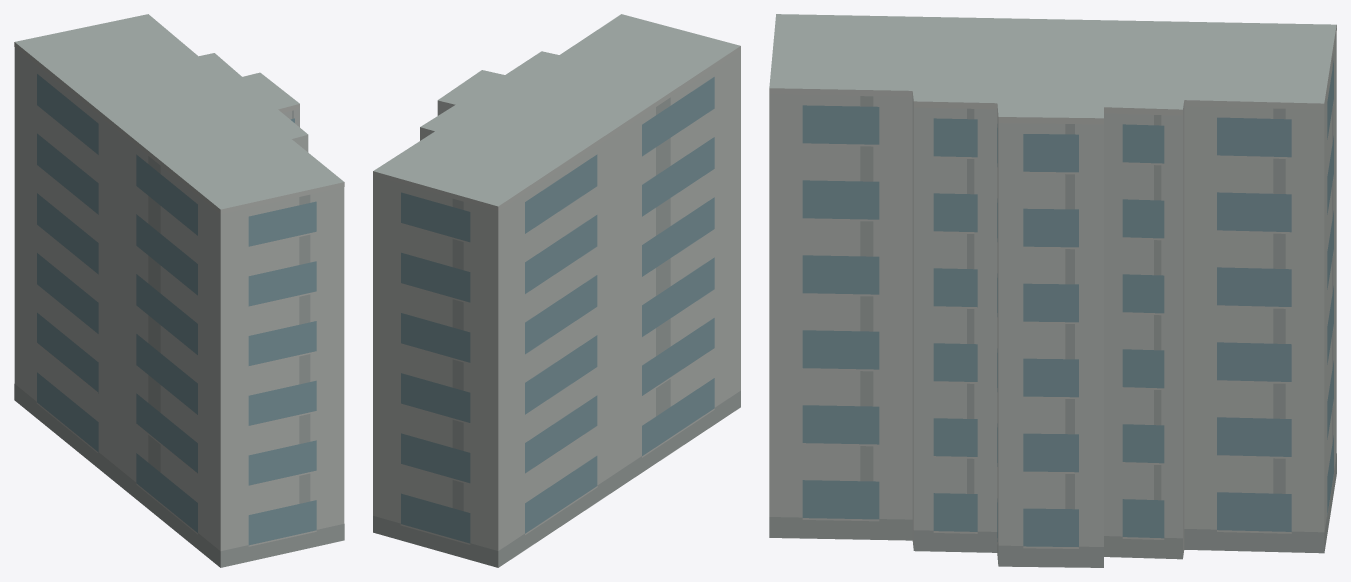
The model's file is survey-upis-32831712.glb.
3 views of the same model, side by side, from view 1: azimuth 30°, elevation 25°; view 2: azimuth 150°, elevation 25°; view 3: azimuth 270°, elevation 25° (orthographic). The views are drawn at different scales.
Parts seen in each view (by area): view 1: survey-upis-32831712.tmp; view 2: survey-upis-32831712.tmp; view 3: survey-upis-32831712.tmp.
Part boxes in pixels (box(x1,y1,x2,y2)): survey-upis-32831712.tmp: box(14, 14, 344, 567); survey-upis-32831712.tmp: box(373, 14, 740, 567); survey-upis-32831712.tmp: box(769, 14, 1336, 567).
Bounding box in the file's own units: 8.81 × 17.7 × 20.25.
